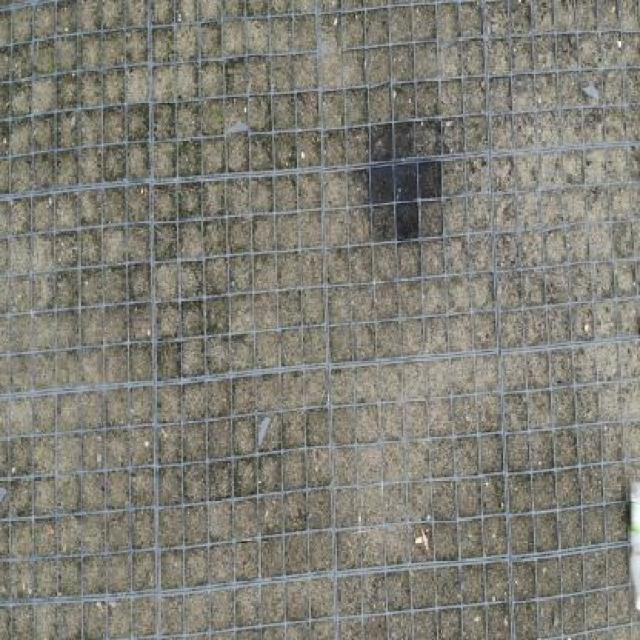Garbage: (628, 481, 640, 610)
